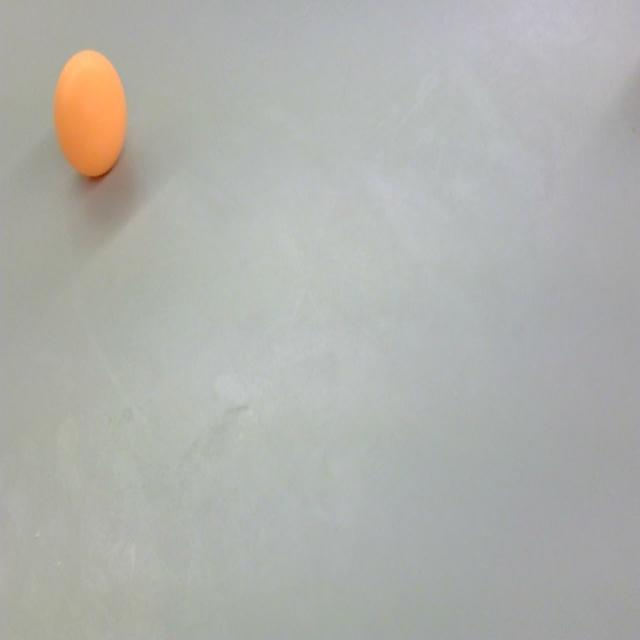ball: (52, 42, 130, 182)
